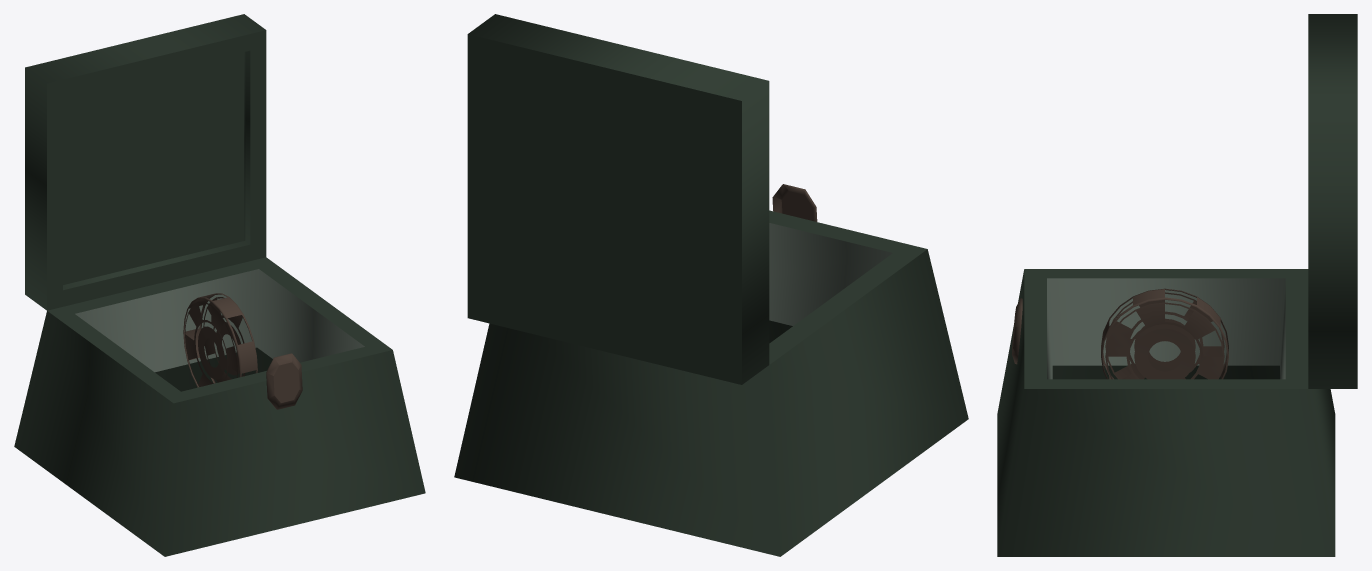
Rendered from chip_box.fbx.
3 renders of one model, left to right at view 1: azimuth 30°, elevation 25°; view 2: azimuth 150°, elevation 25°; view 3: azimuth 270°, elevation 25°, orthographic. The views are drawn at different scales.
Visible parts, largest first — view 1: Cube.006, Chip.005; view 2: Cube.006; view 3: Cube.006, Chip.005.
Boxes of the visible parts, left/top/right/bottom form: Cube.006: left=14, top=14, right=425, bottom=556; Chip.005: left=183, top=293, right=257, bottom=387; Cube.006: left=454, top=14, right=968, bottom=556; Cube.006: left=997, top=14, right=1357, bottom=556; Chip.005: left=1101, top=288, right=1228, bottom=379.
Size of the model in its own units: 9.71 by 13.04 by 10.35.
